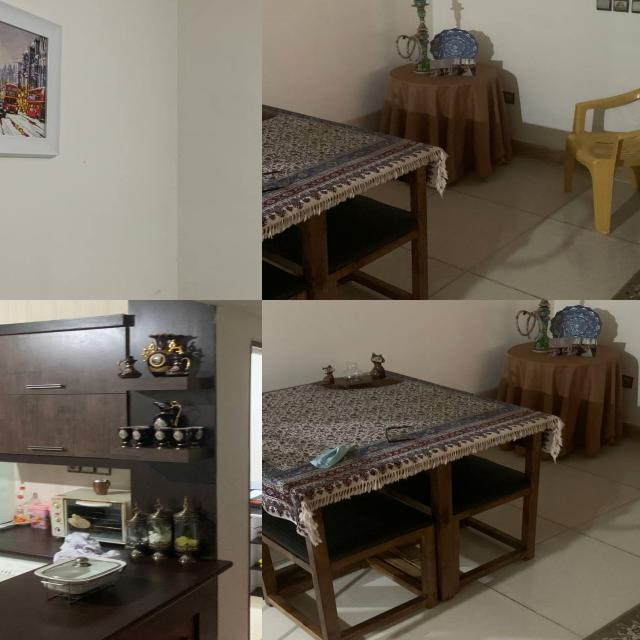Floor: (369, 438, 640, 640)
Wall: (0, 0, 169, 300), (262, 0, 416, 124), (248, 344, 262, 501)
